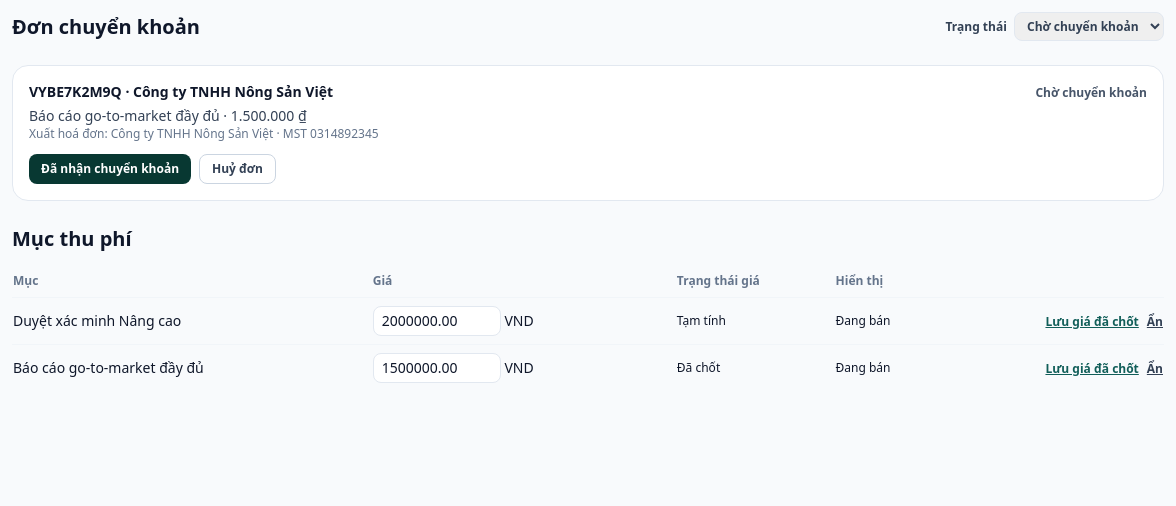
Bảng giá và thanh toán chuyển khoản (U19) › admin: xác nhận đã nhận chuyển khoản kèm ghi chú đối soát
Expected: the list item "VYBE7K2M9Q" shows "MST 0314892345", [12,65,1164,201]
Step 1. Click the button "Đã nhận chuyển khoản" → (110, 169), box [29,154,191,184]
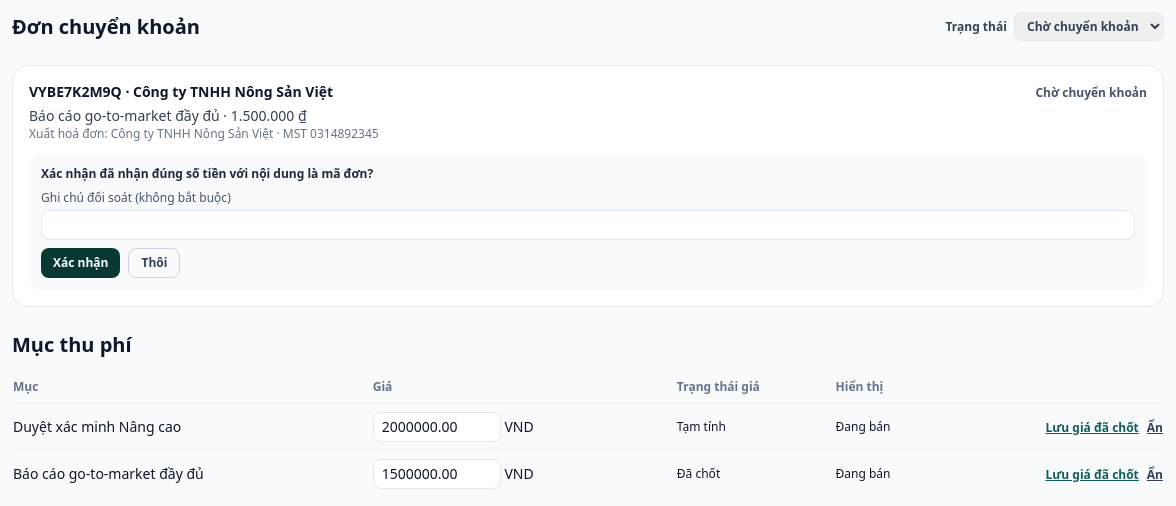
Step 2. Type "Sao kê VCB 02/10" into the field labelled "Ghi chú đối soát (không bắt buộc)" → (588, 225), box [41,210,1135,240]
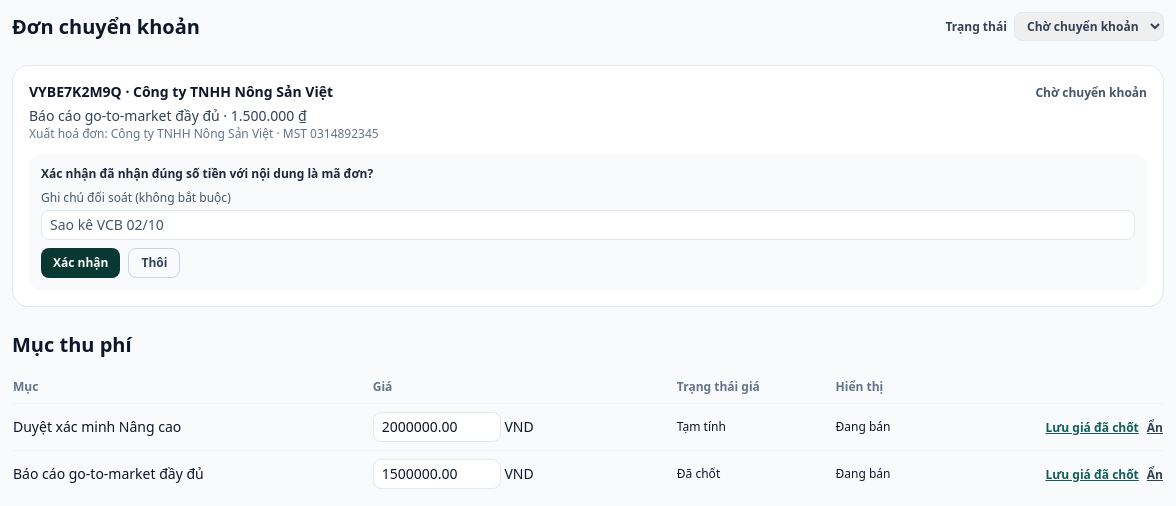
Step 3. Click the button "Xác nhận" → (81, 263), box [41,248,120,278]
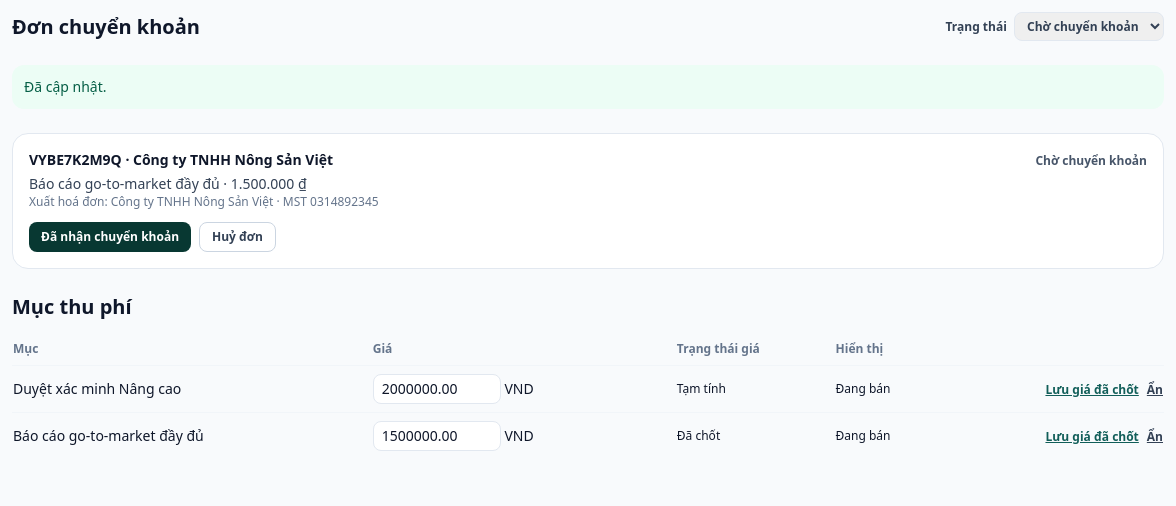
Now the message reads "Đã cập nhật.", box [24,77,106,96]
